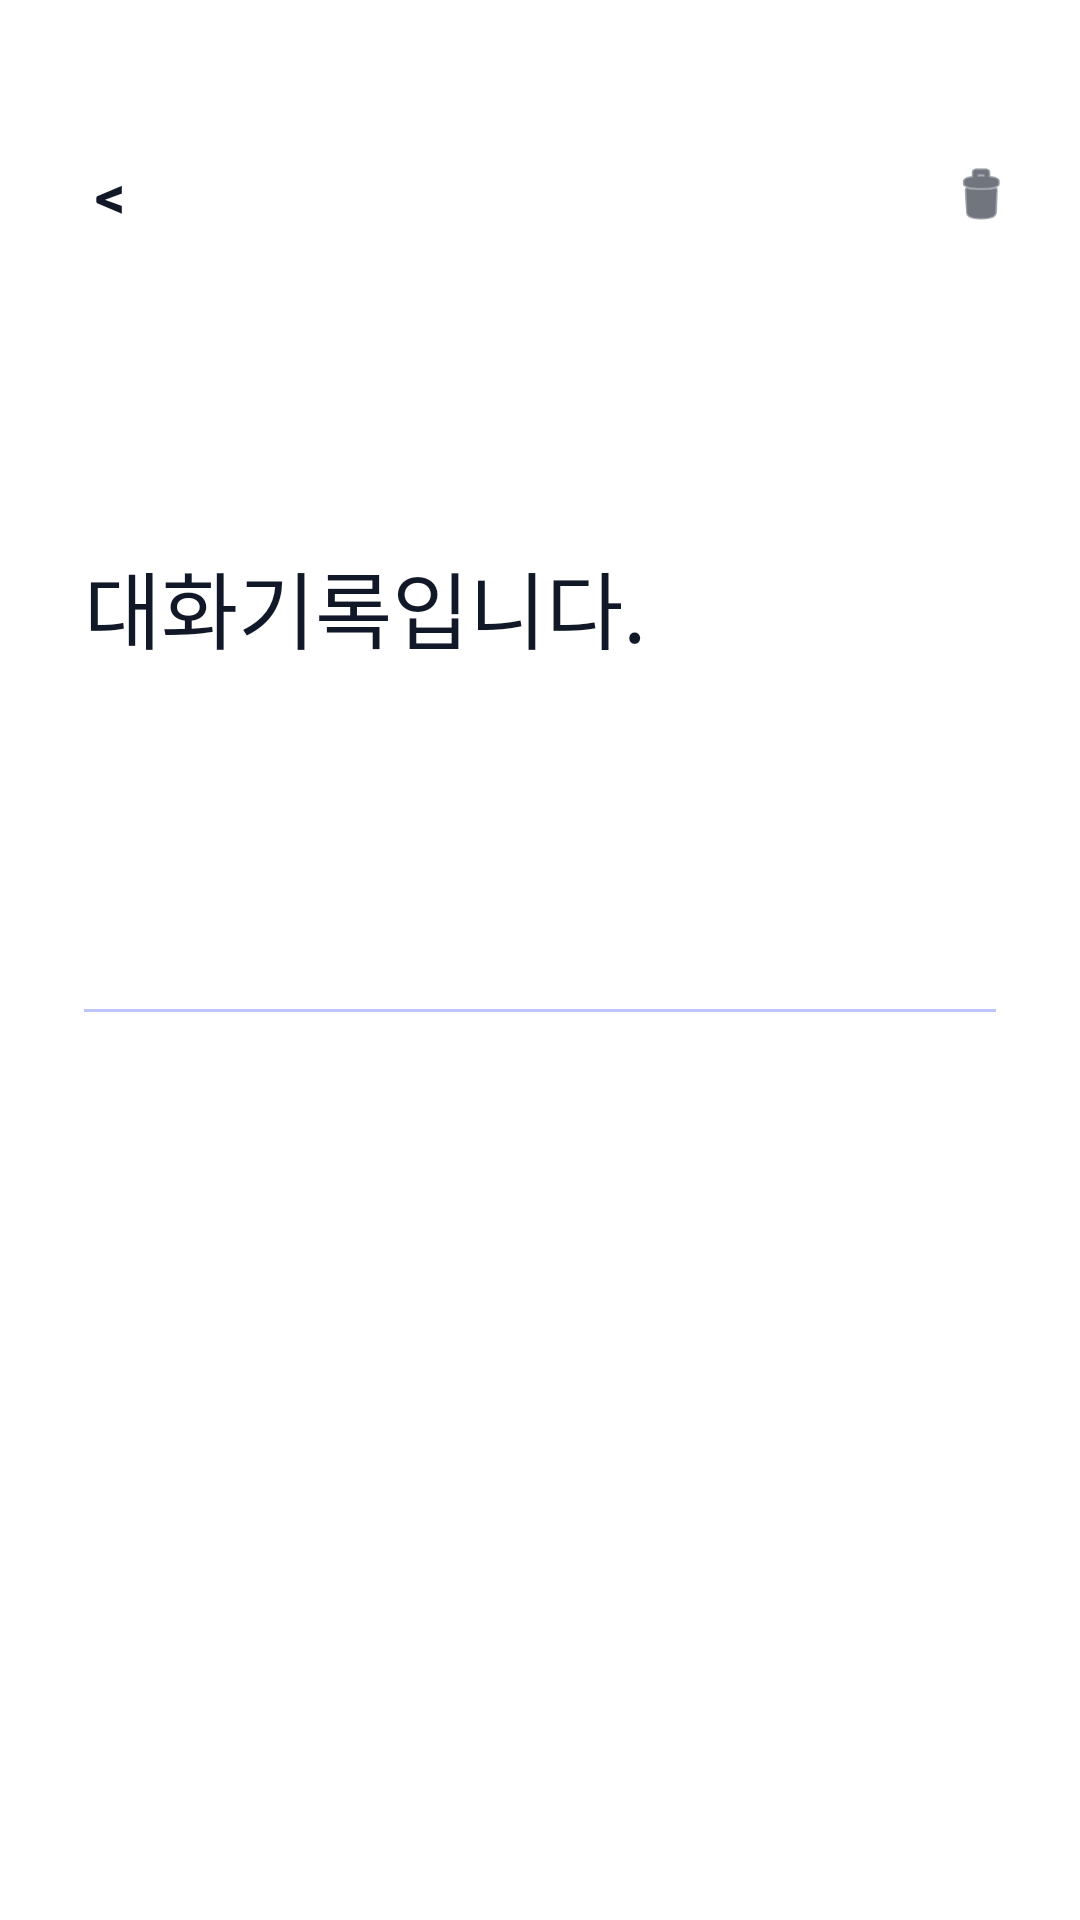

Screen size 1080*1920. Icon name, then its box in pixels as [left=x1, top=y1, right=x2, bottom=y2]:
delete: [left=963, top=168, right=1000, bottom=220]
